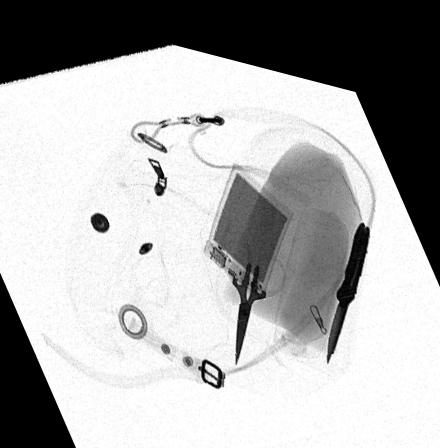Knife: (323, 199, 371, 349)
Powerbank: (201, 146, 296, 292)
Scissors: (218, 227, 286, 357)
